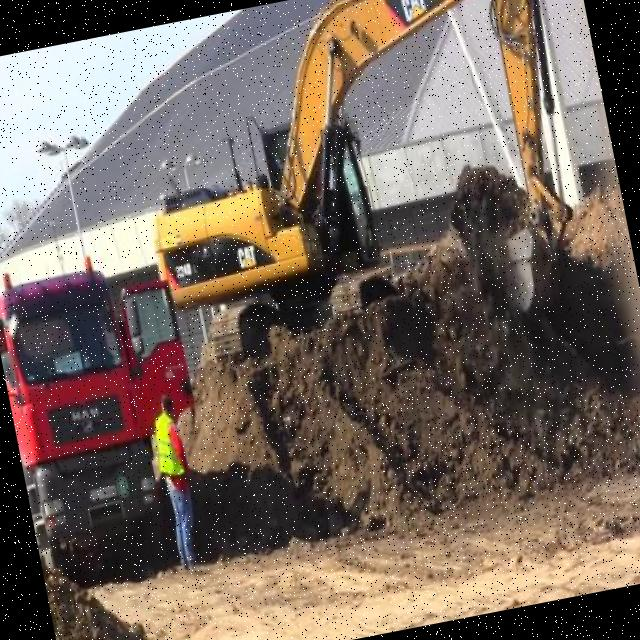Dump Truck: (0, 251, 175, 583)
Excavator: (112, 0, 602, 388)
